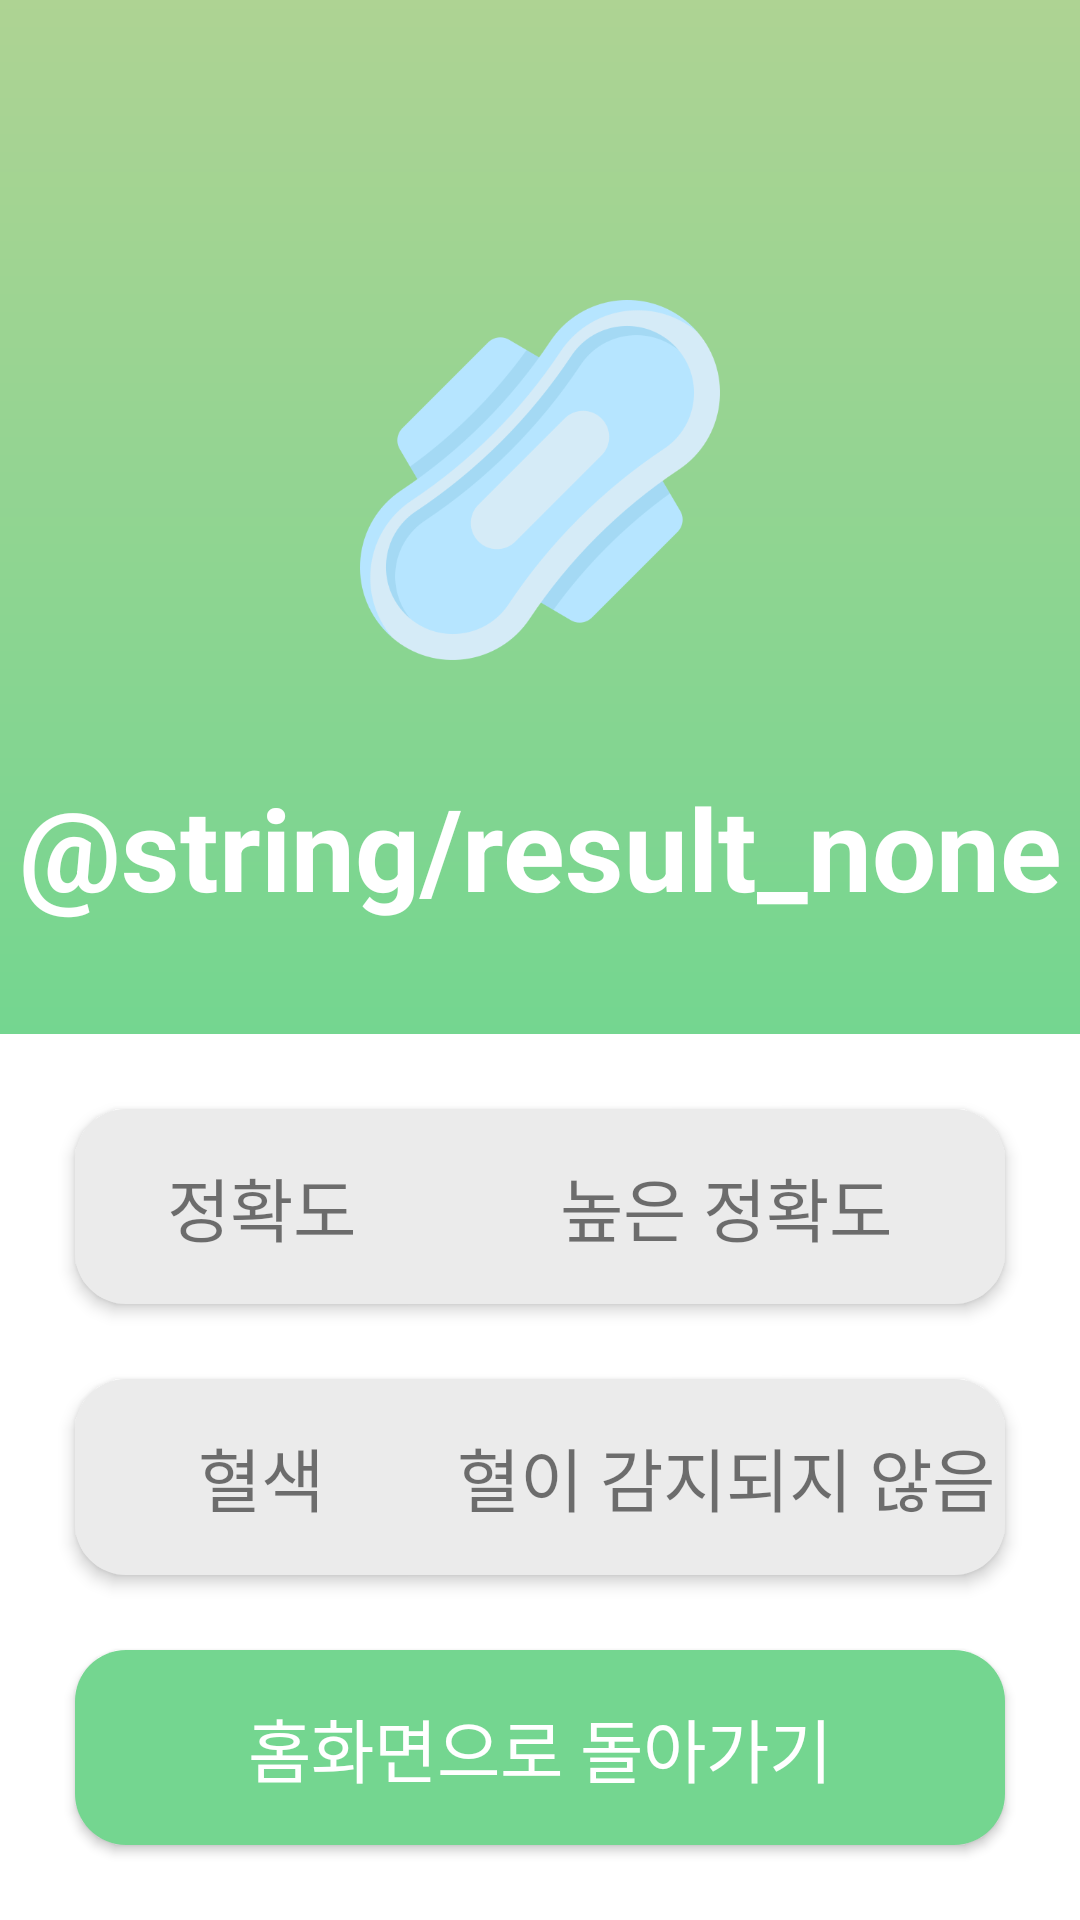

Where icons sit on this 1080 × 1920 app screen, as (x1, y1, x2, y2):
sanitarypad: (360, 300, 720, 660)
